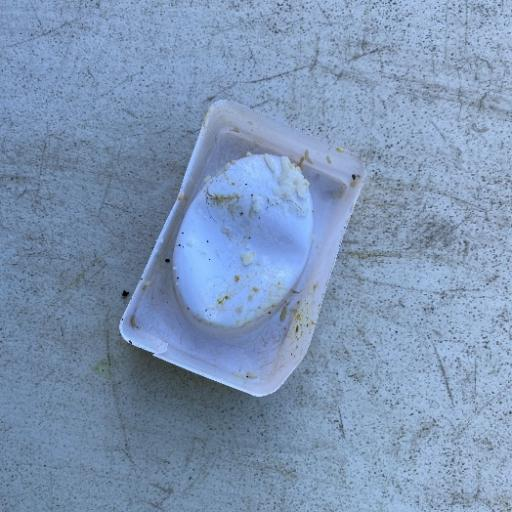Plastic: (116, 96, 368, 398), (169, 152, 316, 335)
